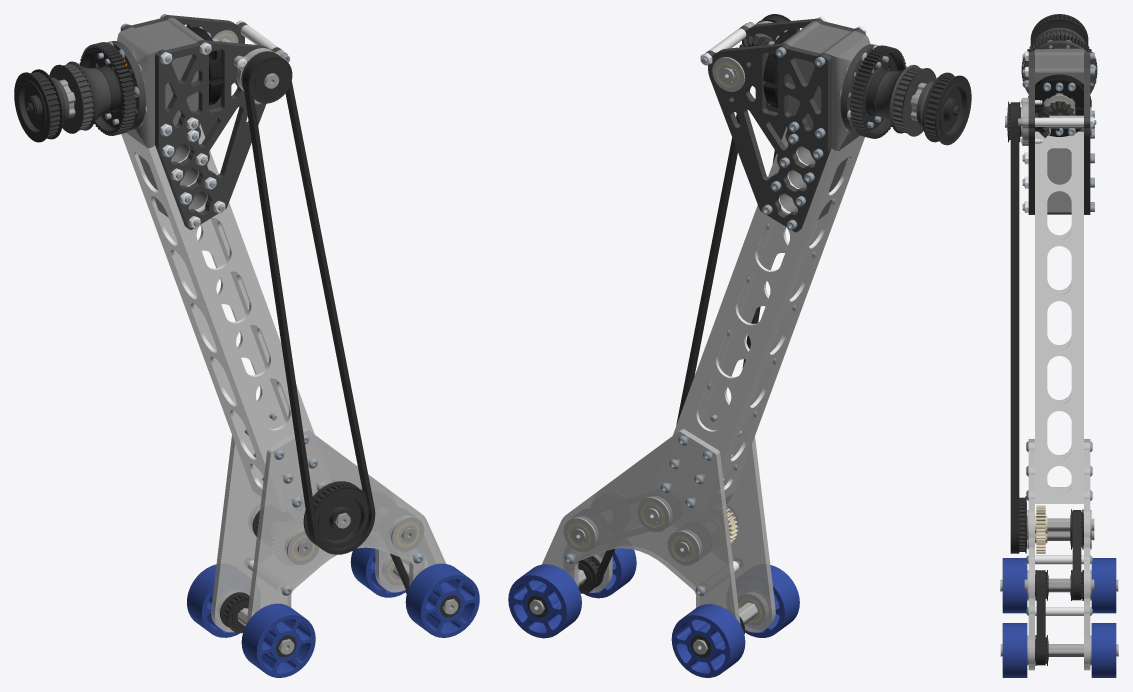
The picture shows the model from 3 angles, left to right: view 1: azimuth 30°, elevation 25°; view 2: azimuth 150°, elevation 25°; view 3: azimuth 270°, elevation 25°; orthographic projection. The views are drawn at different scales.
Parts seen in each view (by area): view 1: Part 5, Part 7 (×2), Part 6 (×2), 2.25" Compliant Wheel (50A, 1" Wide, 1/2" Hex Bore) (×4), 203T 5M 9mm Wide Belt, 36t Aluminum Pulley (HTD 5mm, 9mm Wide, 1/2" Hex Bore) (×2), Part 8, 60t Pocketed Steel Spur Gear (20 DP, MAXSpline Bore), 36t HTD Pulley 9.53mm Wide, 24t Aluminum Pulley (HTD 5mm, 9mm Wide, 1/2" Hex Bore), Part 4, 0.500" Hex ID x 1.125" OD x 0.310" WD (Flanged Bearing) (+1 smaller); view 2: Part 5, Part 7 (×2), Part 6 (×2), 2.25" Compliant Wheel (50A, 1" Wide, 1/2" Hex Bore) (×4), Part 8, 0.500" Hex ID x 1.125" OD x 0.310" WD (Flanged Bearing) (×4), 60t Pocketed Steel Spur Gear (20 DP, MAXSpline Bore), 203T 5M 9mm Wide Belt, 36t Aluminum Pulley (HTD 5mm, 9mm Wide, 1/2" Hex Bore), 36t HTD Pulley 9.53mm Wide, Part 4; view 3: Part 5, 2.25" Compliant Wheel (50A, 1" Wide, 1/2" Hex Bore) (×4), 203T 5M 9mm Wide Belt, Part 7 (×2), Part 8, Part 6 (×2), 36t Aluminum Pulley (HTD 5mm, 9mm Wide, 1/2" Hex Bore) (×2), ROUND Spacer 2 in (×3), REV-21-2581 (×2), 45T 5M 9mm Wide Belt, 50T 5M 9mm Wide Belt, 1/2" Rounded Hex (REV) (2.626 in) (×2) (+11 smaller).
Boxes of the visible parts, x1,y1,x2,y2 form: Part 5: (121, 124, 331, 512); Part 7 (×2): (211, 427, 445, 632); Part 6 (×2): (120, 15, 281, 229); 2.25" Compliant Wheel (50A, 1" Wide, 1/2" Hex Bore) (×4): (187, 547, 479, 677); 203T 5M 9mm Wide Belt: (243, 52, 375, 554); 36t Aluminum Pulley (HTD 5mm, 9mm Wide, 1/2" Hex Bore) (×2): (14, 69, 368, 549); Part 8: (117, 17, 206, 217); 60t Pocketed Steel Spur Gear (20 DP, MAXSpline Bore): (79, 42, 136, 135); 36t HTD Pulley 9.53mm Wide: (49, 61, 111, 133); 24t Aluminum Pulley (HTD 5mm, 9mm Wide, 1/2" Hex Bore): (241, 51, 292, 103); Part 4: (107, 41, 145, 130); 0.500" Hex ID x 1.125" OD x 0.310" WD (Flanged Bearing): (389, 516, 424, 551); Part 5: (656, 127, 864, 512); Part 7 (×2): (542, 429, 775, 632); Part 6 (×2): (705, 18, 865, 232); 2.25" Compliant Wheel (50A, 1" Wide, 1/2" Hex Bore) (×4): (508, 548, 799, 677); Part 8: (780, 21, 870, 219); 0.500" Hex ID x 1.125" OD x 0.310" WD (Flanged Bearing) (×4): (563, 57, 745, 565); 60t Pocketed Steel Spur Gear (20 DP, MAXSpline Bore): (850, 45, 906, 138); 203T 5M 9mm Wide Belt: (676, 16, 787, 424); 36t Aluminum Pulley (HTD 5mm, 9mm Wide, 1/2" Hex Bore): (922, 72, 971, 145); 36t HTD Pulley 9.53mm Wide: (875, 64, 936, 136); Part 4: (840, 44, 878, 133); Part 5: (1035, 131, 1083, 503); 2.25" Compliant Wheel (50A, 1" Wide, 1/2" Hex Bore) (×4): (1002, 558, 1116, 677); 203T 5M 9mm Wide Belt: (1010, 102, 1019, 553); Part 7 (×2): (1028, 439, 1090, 670); Part 8: (1035, 48, 1083, 214); Part 6 (×2): (1028, 51, 1090, 214); 36t Aluminum Pulley (HTD 5mm, 9mm Wide, 1/2" Hex Bore) (×2): (1014, 14, 1088, 553); ROUND Spacer 2 in (×3): (1035, 117, 1083, 615); REV-21-2581 (×2): (1028, 74, 1091, 136); 45T 5M 9mm Wide Belt: (1036, 570, 1045, 665); 50T 5M 9mm Wide Belt: (1072, 510, 1081, 600); 1/2" Rounded Hex (REV) (2.626 in) (×2): (1024, 530, 1094, 591).
Bounding box in the file's own units: 0.4034 × 0.5917 × 0.1226.
